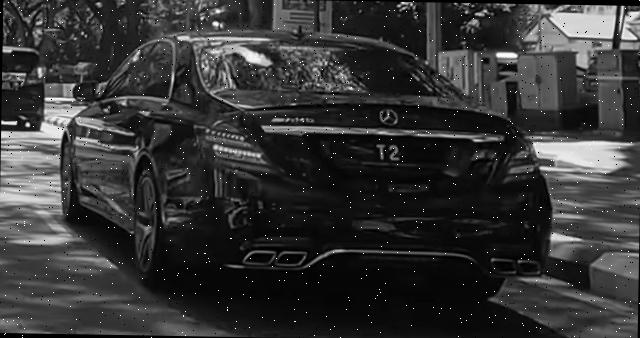License_Plate: (336, 138, 448, 168)
car: (56, 23, 556, 304)
